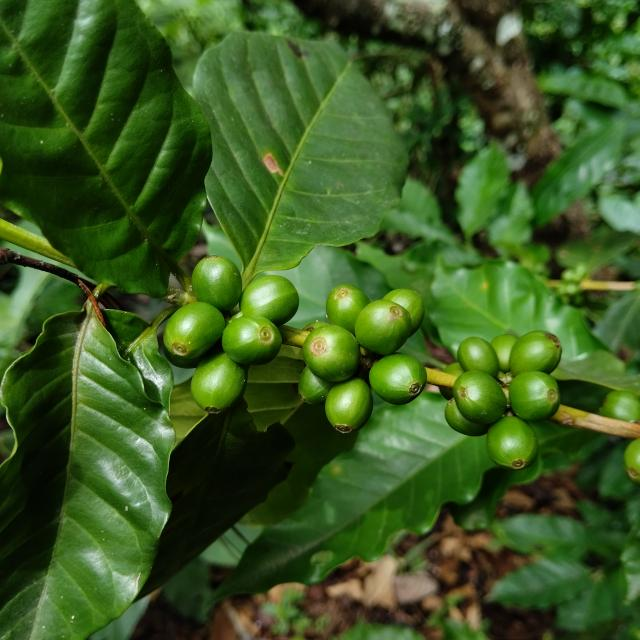green: (190, 351, 248, 414), (163, 302, 225, 359), (302, 325, 360, 382), (355, 299, 412, 355), (239, 275, 299, 326), (221, 315, 282, 365), (369, 353, 427, 405), (453, 371, 507, 425), (191, 256, 242, 311), (487, 417, 539, 470), (325, 378, 373, 434), (510, 371, 561, 422), (510, 330, 563, 376), (326, 284, 371, 334), (383, 289, 425, 336), (458, 337, 500, 378), (445, 399, 490, 437), (298, 367, 335, 405), (491, 334, 519, 373)
